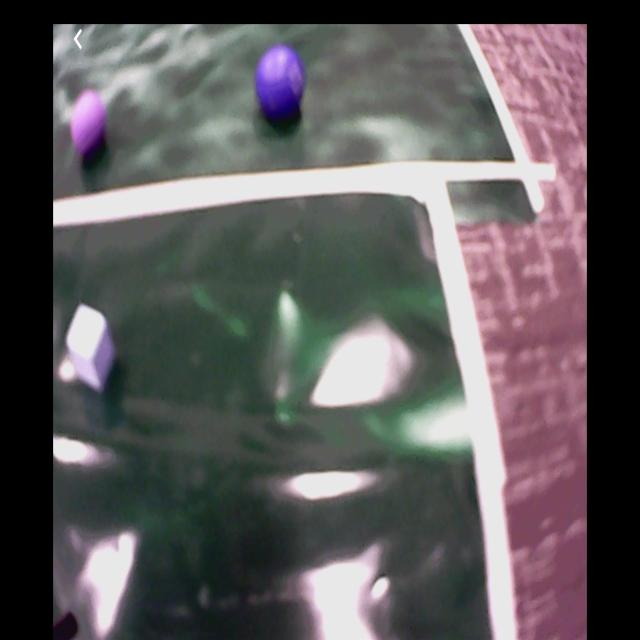ball: (255, 47, 305, 128), (71, 92, 109, 165)
